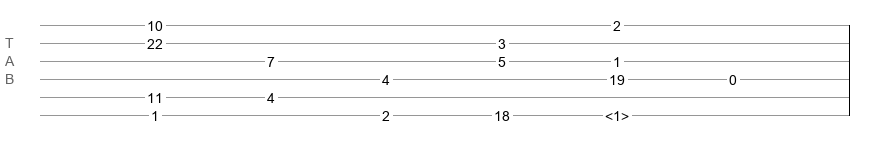0: (729, 72, 737, 82)
1: (151, 108, 159, 118), (613, 54, 621, 64)
10: (147, 18, 163, 28)
11: (147, 90, 163, 100)
18: (494, 108, 510, 118)
19: (609, 72, 625, 82)
2: (382, 108, 390, 118), (613, 18, 621, 28)
22: (147, 36, 163, 46)
3: (498, 36, 506, 46)
4: (267, 90, 275, 100), (382, 72, 390, 82)
5: (498, 54, 506, 64)
7: (267, 54, 275, 64)
harmonic: (605, 108, 629, 118)
